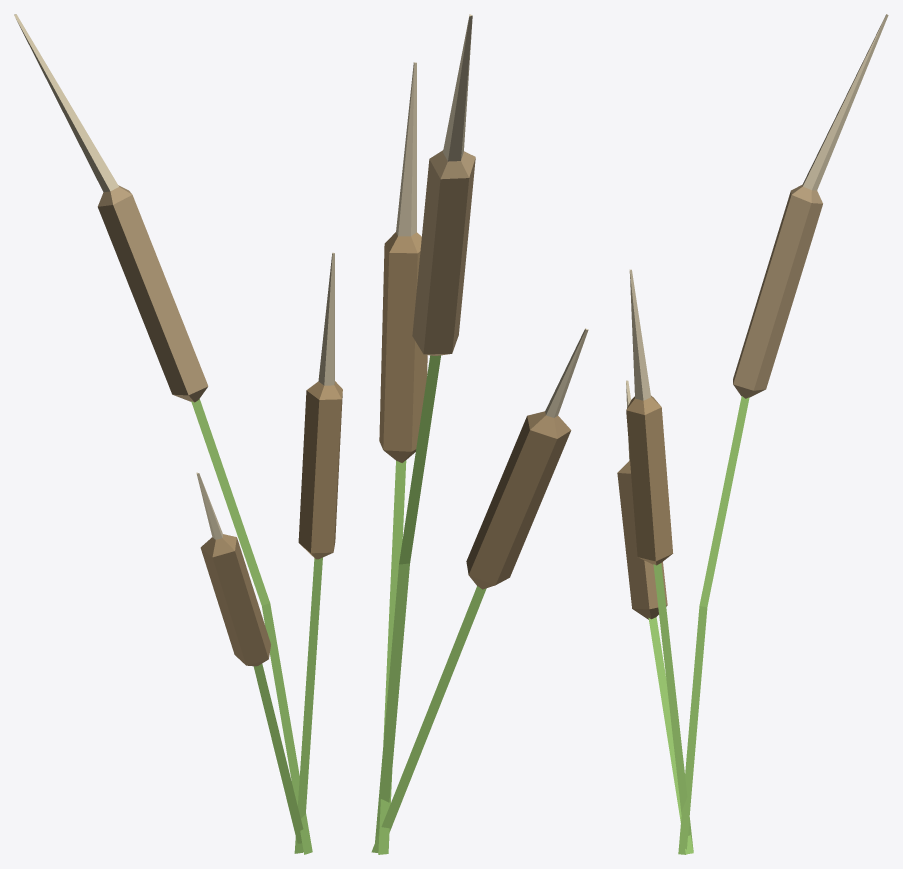
Rendered from reeds1.fbx.
3 views of the same model, side by side, from view 1: azimuth 30°, elevation 25°; view 2: azimuth 150°, elevation 25°; view 3: azimuth 270°, elevation 25° (orthographic). The views are drawn at different scales.
Visible parts, largest first — view 1: Reed_b_03; view 2: Reed_b_03; view 3: Reed_b_03.
Boxes of the visible parts, x1,y1,x2,y2 form: Reed_b_03: (14, 14, 342, 854); Reed_b_03: (371, 14, 588, 854); Reed_b_03: (617, 14, 888, 854).
Size of the model in its own units: 43.27 by 34.69 by 133.
Materials: 1 (1 with a texture image).
